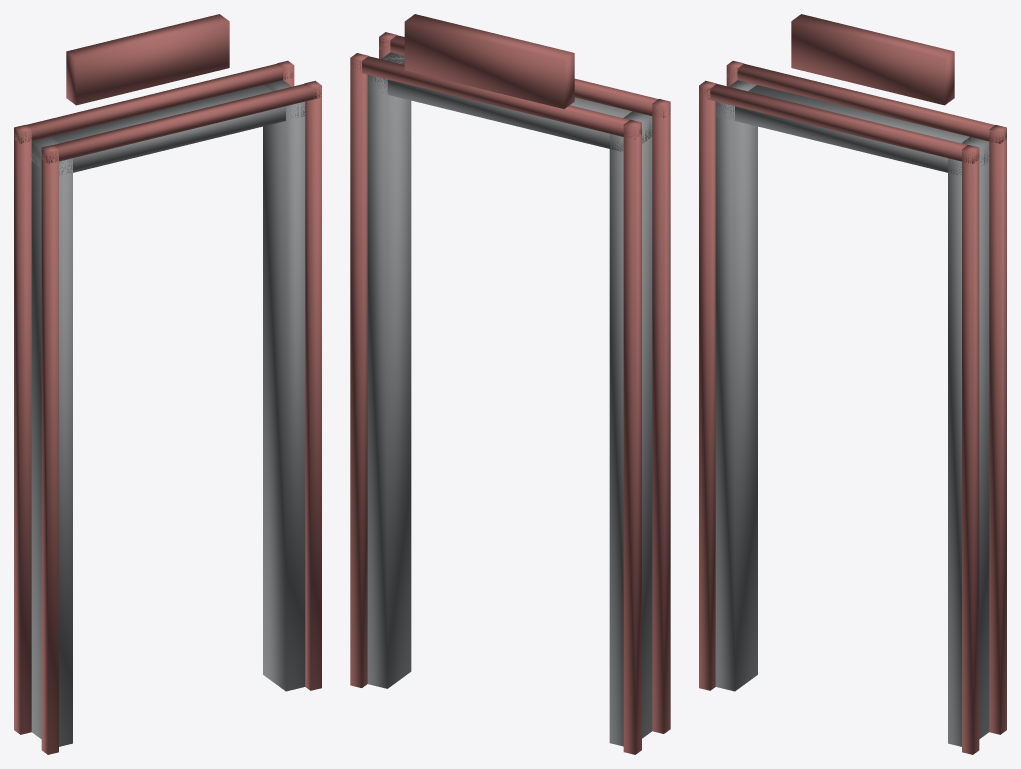
The model's file is doorway_emergency_exit_w86_h220_d16.glb.
3 renders of one model, left to right at view 1: azimuth 30°, elevation 25°; view 2: azimuth 150°, elevation 25°; view 3: azimuth 330°, elevation 25°, orthographic. The views are drawn at different scales.
Parts seen in each view (by area): view 1: world; view 2: world; view 3: world.
Boxes of the visible parts, <box> form: world: <box>14,14,321,754</box>; world: <box>350,14,670,754</box>; world: <box>699,14,1006,754</box>.
Bounding box in the file's own units: 1.1 × 2.54 × 0.2932.
